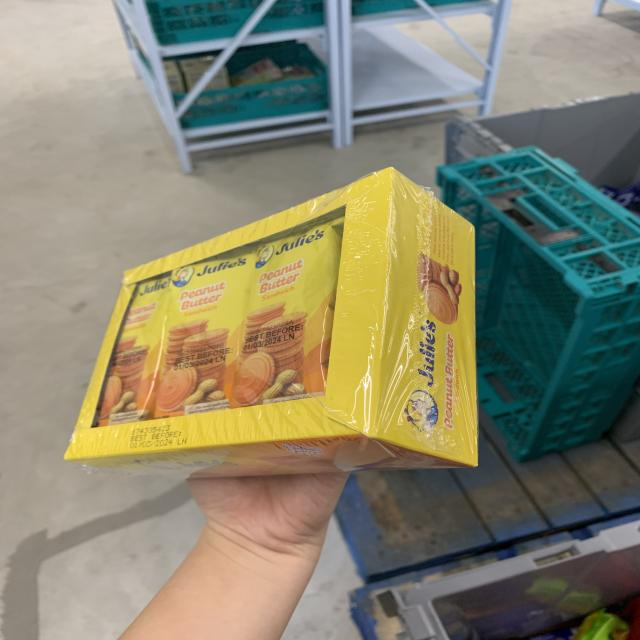object_name: (118, 259, 472, 455)
